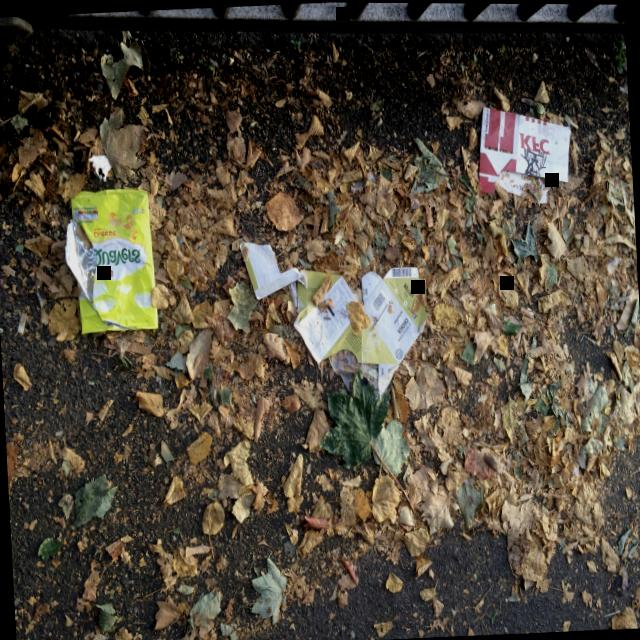Cigarette: (520, 305, 534, 318), (18, 313, 27, 332)
Crisp packet: (65, 188, 158, 333)
Meal carton: (240, 240, 427, 396), (479, 105, 571, 202)
Plastic film: (332, 348, 380, 399)
Unlabeled litter: (89, 154, 112, 180)
